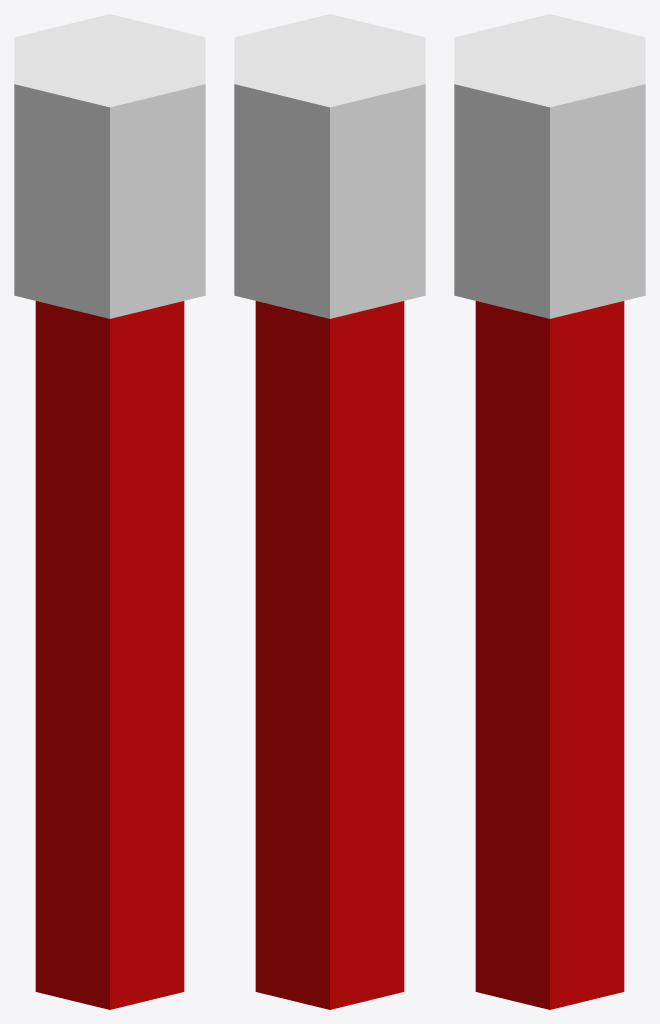
File: Flare.fbx
The picture shows the model from 3 angles, left to right: view 1: azimuth 30°, elevation 25°; view 2: azimuth 150°, elevation 25°; view 3: azimuth 270°, elevation 25°; orthographic projection.
Visible parts, largest first — view 1: SketchUp; view 2: SketchUp; view 3: SketchUp.
Part boxes in pixels (bbox=[...]): SketchUp: bbox=[14, 14, 205, 1009]; SketchUp: bbox=[234, 14, 425, 1009]; SketchUp: bbox=[454, 14, 645, 1009].
Bounding box in the file's own units: 18 × 82 × 15.59.
